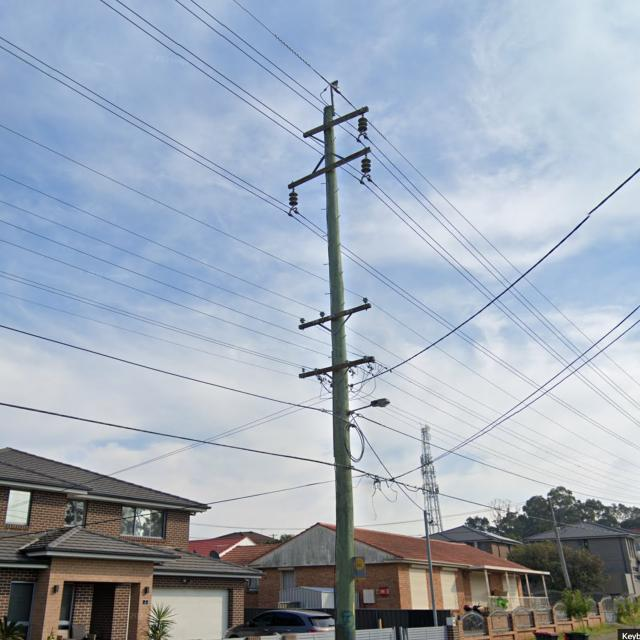HV-transmission: (288, 80, 372, 216), (297, 297, 372, 331)
crossarm: (288, 144, 372, 189), (303, 104, 369, 140), (298, 302, 372, 331), (300, 354, 375, 380)
steel-pole: (423, 510, 438, 627)
streetlight: (349, 397, 391, 417)
timber-pole: (322, 105, 356, 640), (548, 497, 572, 594)
